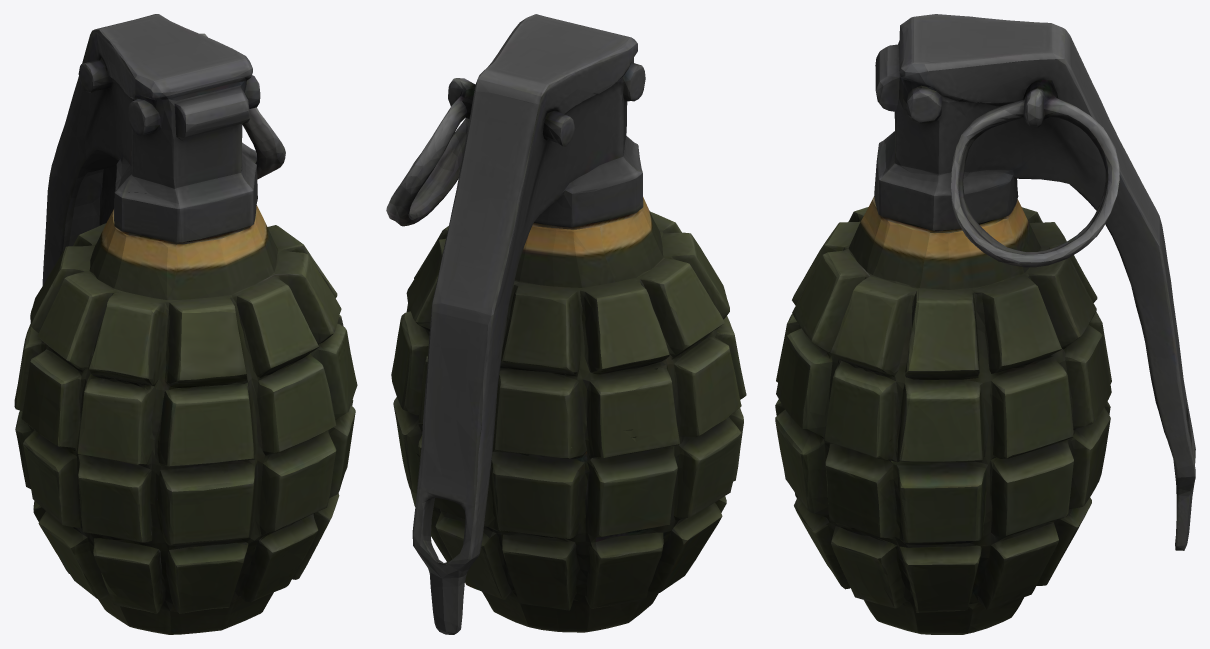
The model's file is frag.glb.
3 views of the same model, side by side, from view 1: azimuth 30°, elevation 25°; view 2: azimuth 150°, elevation 25°; view 3: azimuth 270°, elevation 25° (orthographic). The views are drawn at different scales.
Visible parts, largest first — view 1: geometry_0; view 2: geometry_0; view 3: geometry_0.
Part boxes in pixels (bbox=[...]): geometry_0: bbox=[14, 14, 357, 634]; geometry_0: bbox=[386, 14, 746, 634]; geometry_0: bbox=[775, 14, 1195, 634].
Bounding box in the file's own units: 0.5716 × 1 × 0.6765.
1 material, 1 textured.
